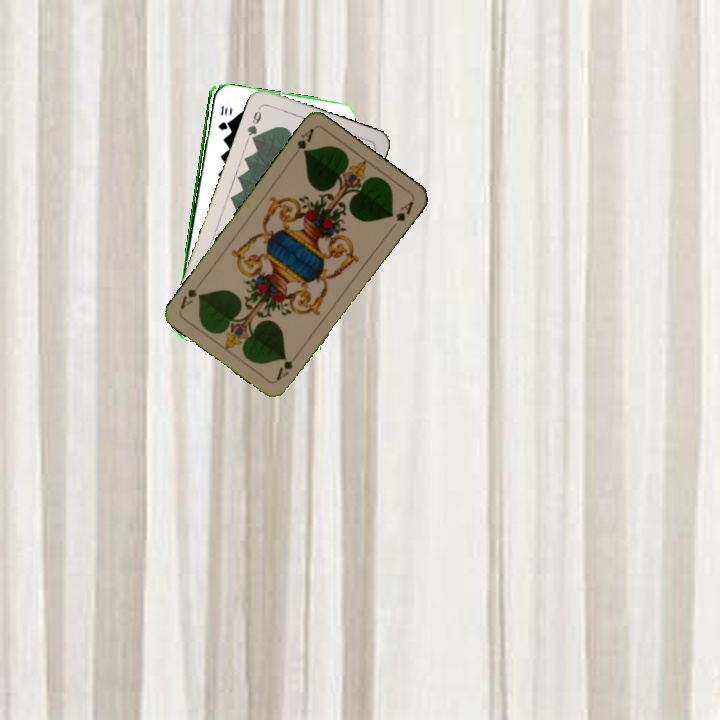G10: (214, 102, 230, 133)
G9: (243, 102, 264, 144)
GA: (288, 124, 316, 161), (272, 355, 296, 383)
